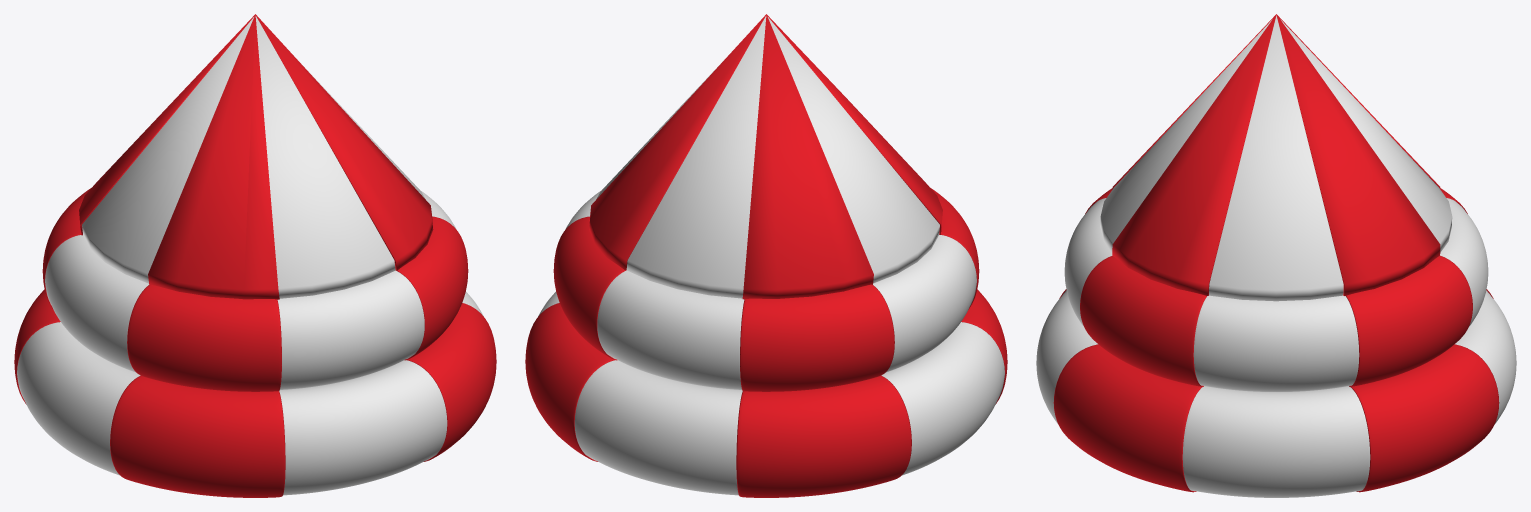
3 views of the same model, side by side, from view 1: azimuth 30°, elevation 25°; view 2: azimuth 150°, elevation 25°; view 3: azimuth 270°, elevation 25° (orthographic).
Parts seen in each view (by area): view 1: Cone.004, Cone.003, Torus.003, Torus.002, Torus, Torus.001; view 2: Cone.004, Cone.003, Torus.003, Torus.002, Torus, Torus.001; view 3: Cone.004, Cone.003, Torus.002, Torus.003, Torus.001, Torus.
Part boxes in pixels (bbox=[...]): Cone.004: bbox=[79, 14, 433, 299]; Cone.003: bbox=[82, 16, 425, 298]; Torus.003: bbox=[17, 292, 483, 495]; Torus.002: bbox=[14, 289, 496, 497]; Torus: bbox=[45, 190, 456, 389]; Torus.001: bbox=[42, 188, 468, 391]; Cone.004: bbox=[589, 14, 942, 299]; Cone.003: bbox=[596, 16, 939, 298]; Torus.003: bbox=[538, 292, 1004, 495]; Torus.002: bbox=[525, 289, 1007, 497]; Torus: bbox=[565, 190, 976, 389]; Torus.001: bbox=[553, 188, 979, 391]; Cone.004: bbox=[1112, 14, 1440, 295]; Cone.003: bbox=[1100, 15, 1452, 301]; Torus.002: bbox=[1053, 289, 1499, 492]; Torus.003: bbox=[1036, 290, 1516, 497]; Torus.001: bbox=[1080, 188, 1472, 386]; Torus: bbox=[1064, 198, 1488, 391].
Size of the model in its own units: 247 by 227 by 247.
